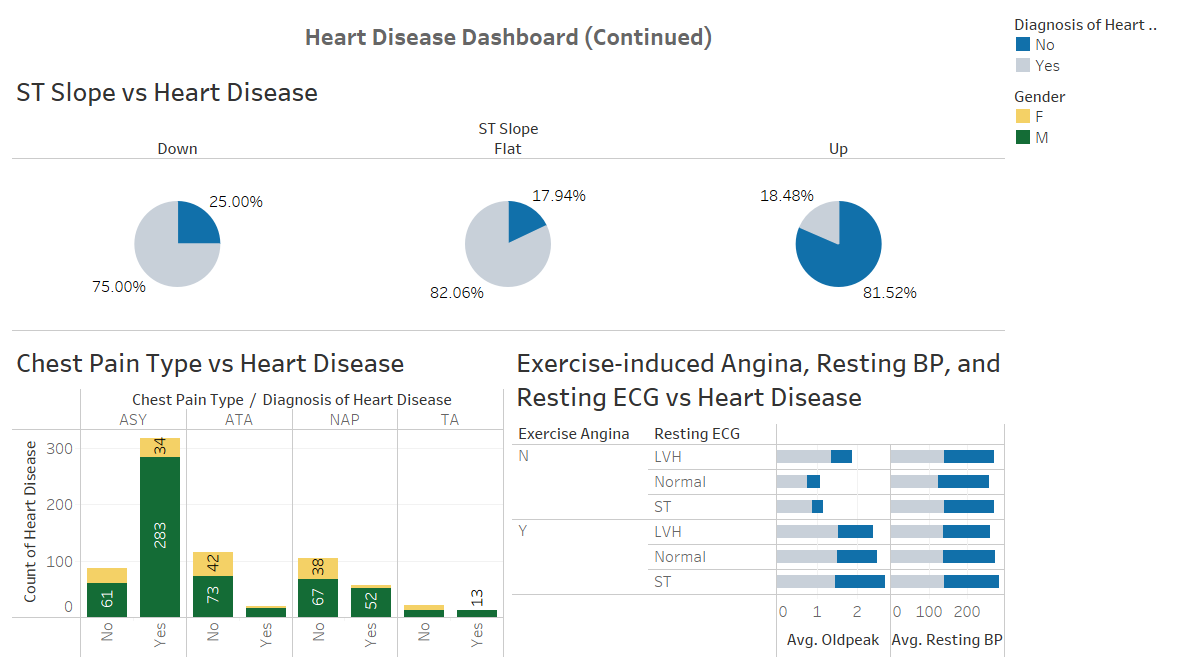

Layout of this report page (visuals, bound fields, positions):
{"tool":"tableau","page":{"name":"Dashboard 2","canvas":[1000,1000],"units":"permille","ordinal":1},"visuals":[{"type":"text","box":[4.8,9.4,893.8,84.6]},{"type":"legend","title":"ST Slope","param":"[federated.0qa9inb16k12xj0zx69wm1e3hbyz].[none:Calculation_526358230421000192:nk","box":[898.6,9.4,96.6,84.6]},{"type":"worksheet","title":"ST Slope","mark":"Pie","cols":["ST_Slope"],"box":[4.8,94,893.8,406]},{"type":"legend","title":"CPTvsGender","param":"[federated.0qa9inb16k12xj0zx69wm1e3hbyz].[none:Gender:nk]","box":[898.6,94,96.6,84.6]},{"type":"worksheet","title":"CPTvsGender","mark":"Automatic","rows":["HeartDisease"],"cols":["ChestPainType","Calculation_526358230421000192"],"box":[4.8,500,446.9,490.6]},{"type":"worksheet","title":"Exercise Angina","mark":"Automatic","rows":["ExerciseAngina","RestingECG"],"cols":["Oldpeak","RestingBP"],"box":[451.7,500,446.9,490.6]}]}

Visuals, with their boxes on the dashboard's canvas, which has no fixed pixel size, in thousandths of its width and height (x1, y1, x2, y2). These are canvas units, not pixel positions in the 1177x670 screenshot, which may show the page scaled, cropped or inside an application window:
text: [left=5, top=9, right=899, bottom=94]
"ST Slope" legend: [left=899, top=9, right=995, bottom=94]
"ST Slope" worksheet (Pie marks): [left=5, top=94, right=899, bottom=500]
"CPTvsGender" legend: [left=899, top=94, right=995, bottom=179]
"CPTvsGender" worksheet: [left=5, top=500, right=452, bottom=991]
"Exercise Angina" worksheet: [left=452, top=500, right=899, bottom=991]
